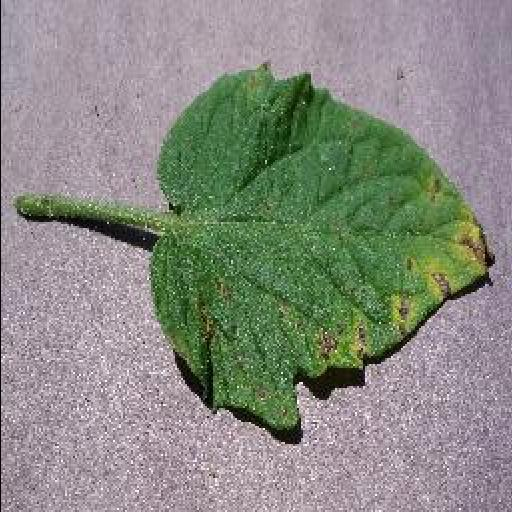disease_tomato: (146, 60, 494, 428)
